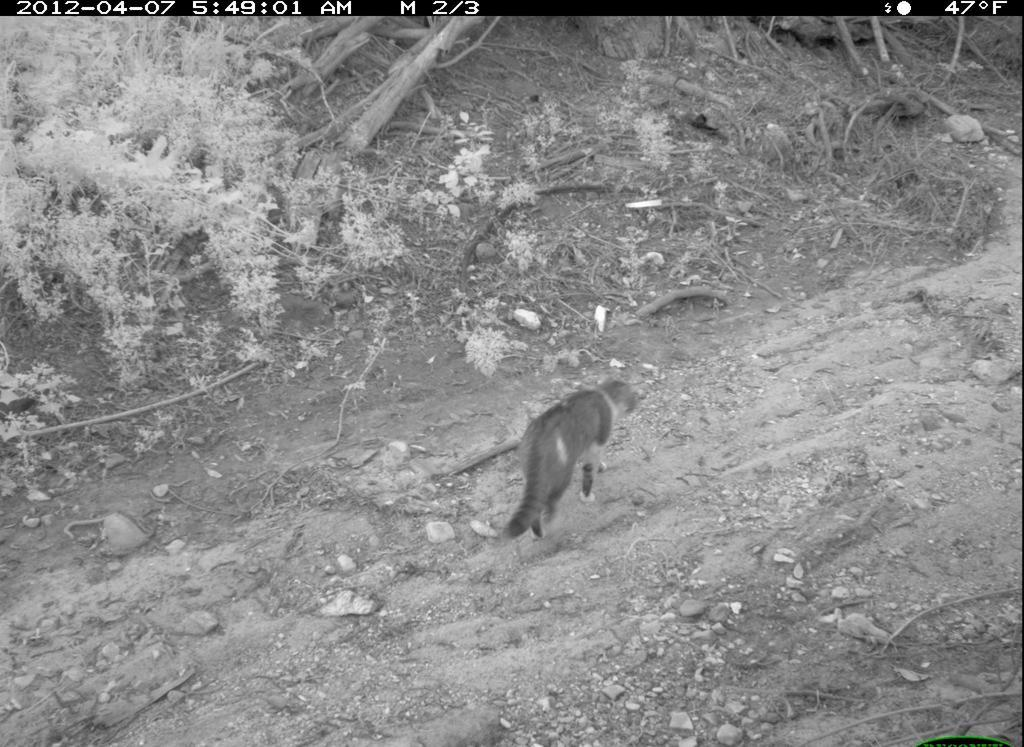cat: (477, 364, 661, 565)
